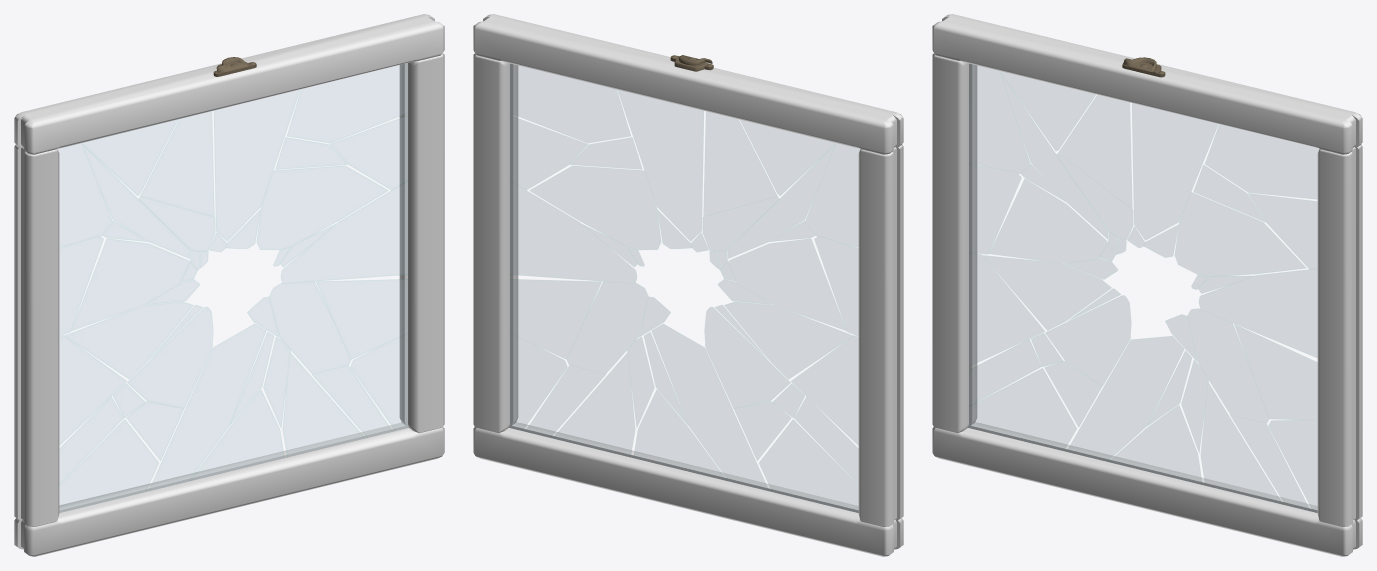
Rendered from broken-glass-window.glb.
The picture shows the model from 3 angles, left to right: view 1: azimuth 30°, elevation 25°; view 2: azimuth 150°, elevation 25°; view 3: azimuth 330°, elevation 25°; orthographic projection.
Parts seen in each view (by area): view 1: WindowsGlass, WindowFrame, WindowClasp; view 2: WindowsGlass, WindowFrame, WindowClasp; view 3: WindowsGlass, WindowFrame, WindowClasp.
Boxes of the visible parts, bbox=[...] form: WindowsGlass: bbox=[58, 63, 408, 512]; WindowFrame: bbox=[14, 14, 444, 556]; WindowClasp: bbox=[213, 57, 256, 76]; WindowsGlass: bbox=[509, 64, 859, 512]; WindowFrame: bbox=[473, 14, 903, 556]; WindowClasp: bbox=[670, 55, 713, 71]; WindowsGlass: bbox=[968, 64, 1318, 512]; WindowFrame: bbox=[932, 14, 1362, 556]; WindowClasp: bbox=[1122, 57, 1165, 77].
Size of the model in its own units: 0.9836 by 1 by 0.0737.
3 materials, 1 textured.
